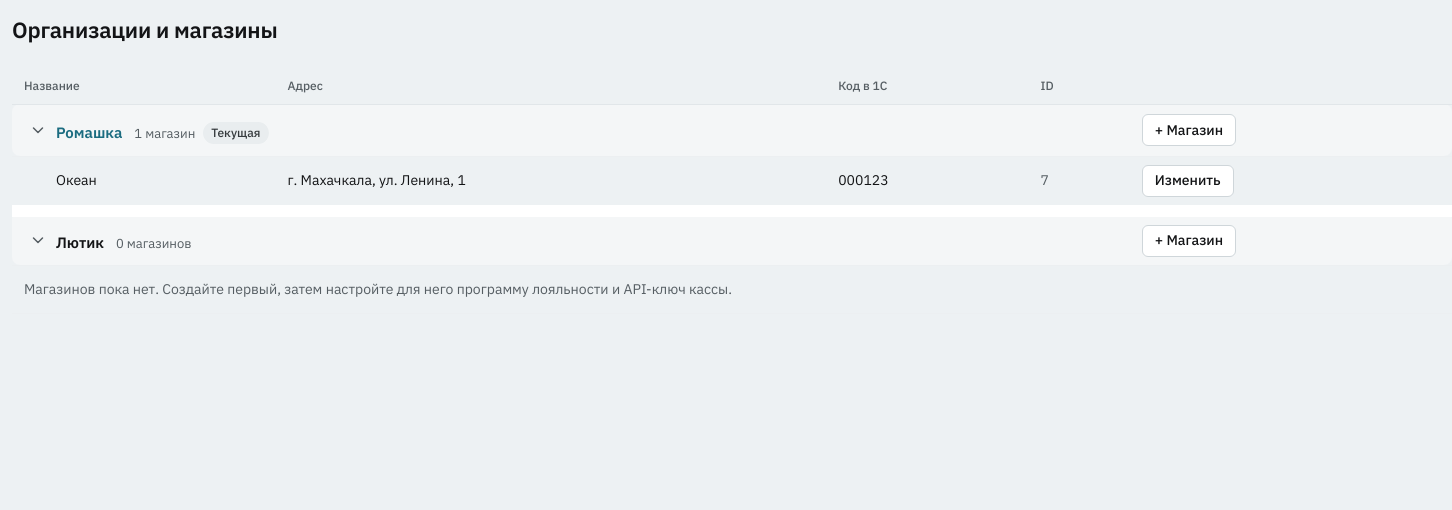
Test: OrganizationsPage › creates a store with trimmed fields inside its organization group
The width and height of the screenshot is (1452, 510).
Click the button with aria-label "Добавить магазин в «Лютик»" at (1189, 240), box [1142,224,1236,256]
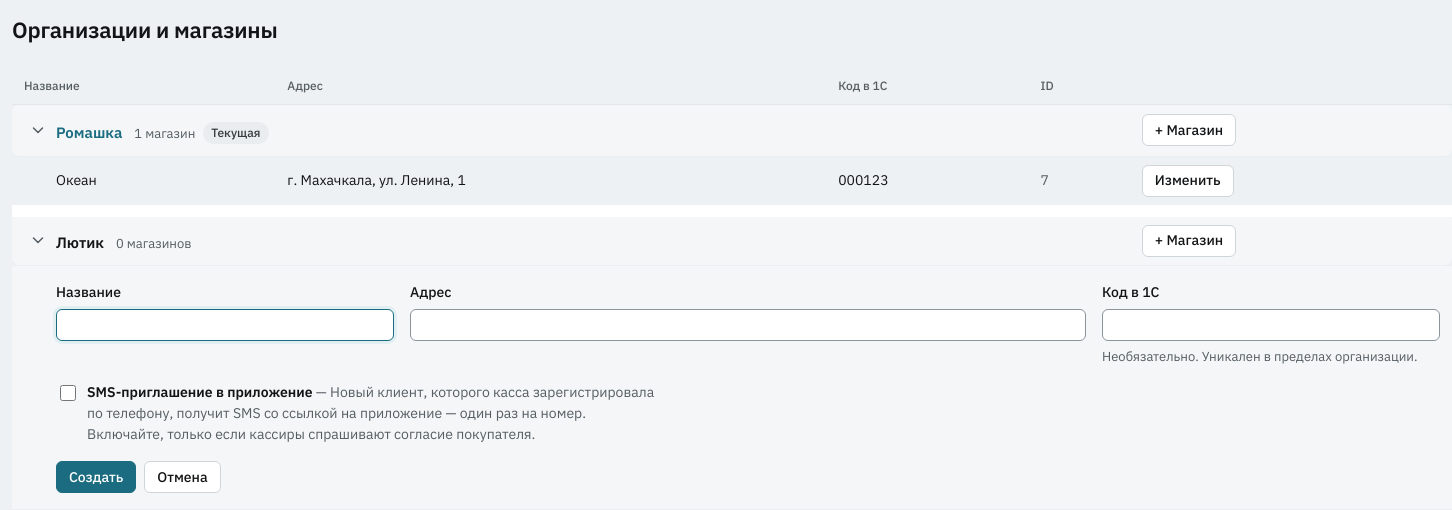
Type " Волна " into the field labelled "Название" at (225, 324), box [56,308,394,340]
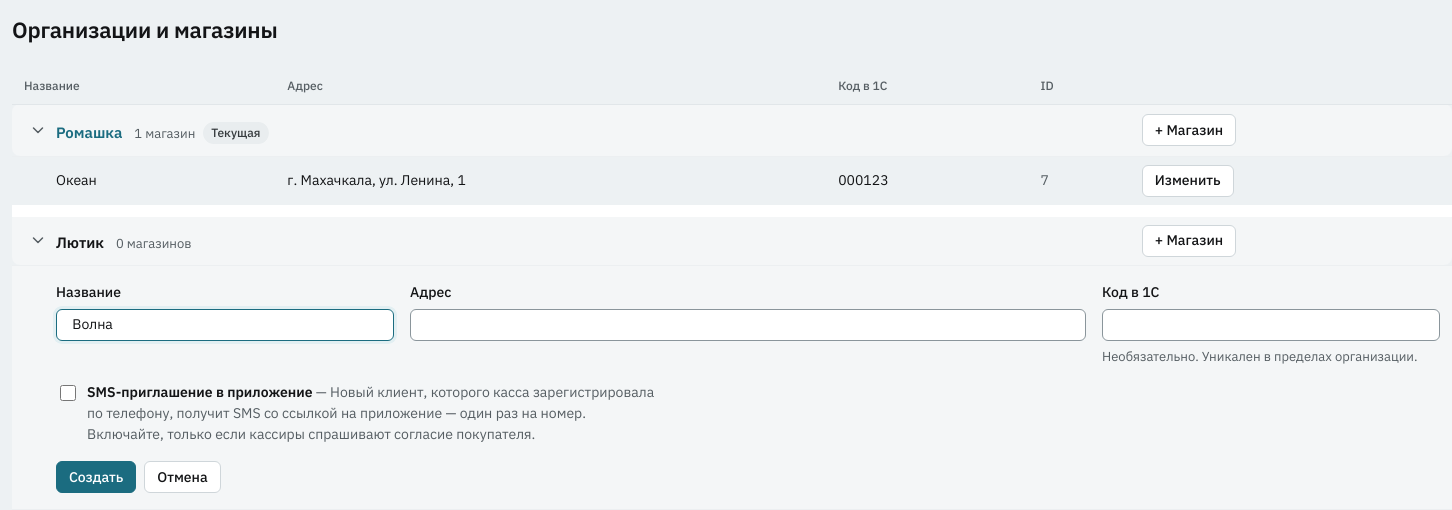
Type "ул. Гагарина, 5" into the field labelled "Адрес" at (748, 324), box [410,308,1086,340]
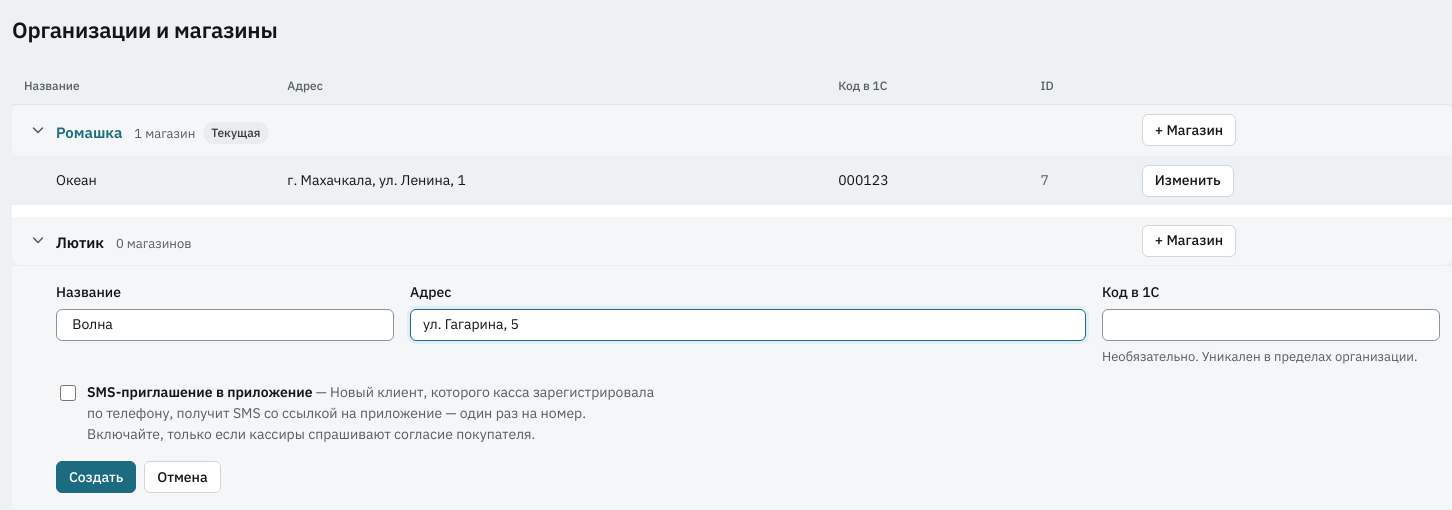
Click the button "Создать" at (96, 477), box [56,461,136,493]
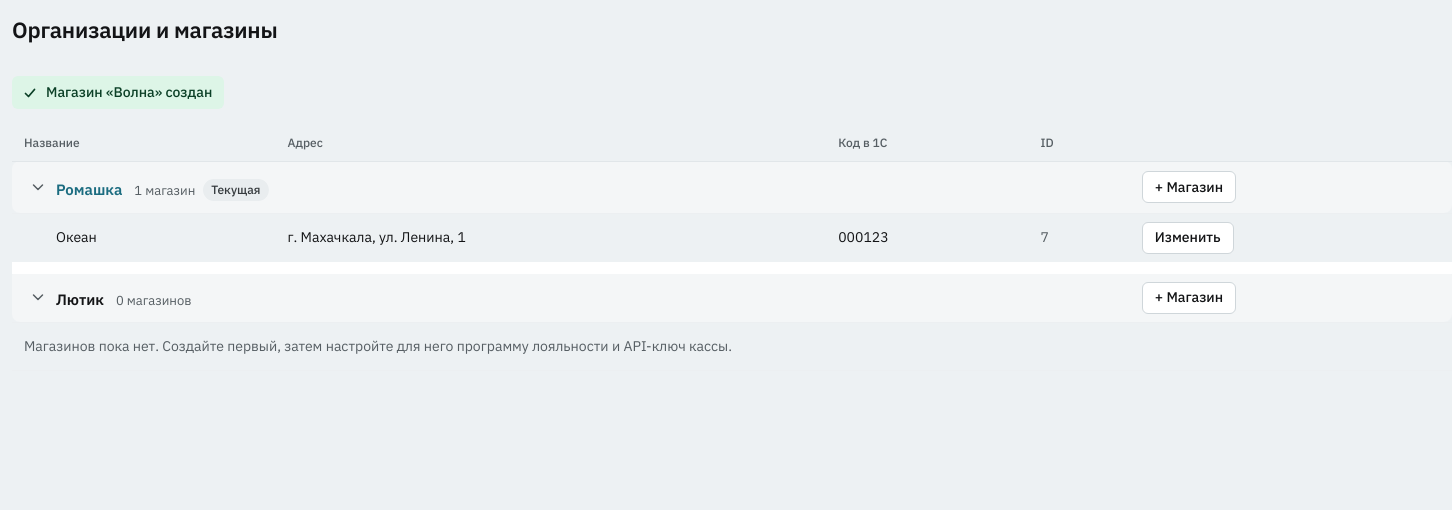
Check: the form is gone
Check: the message reads "Магазин «Волна» создан", box [46,83,212,101]
